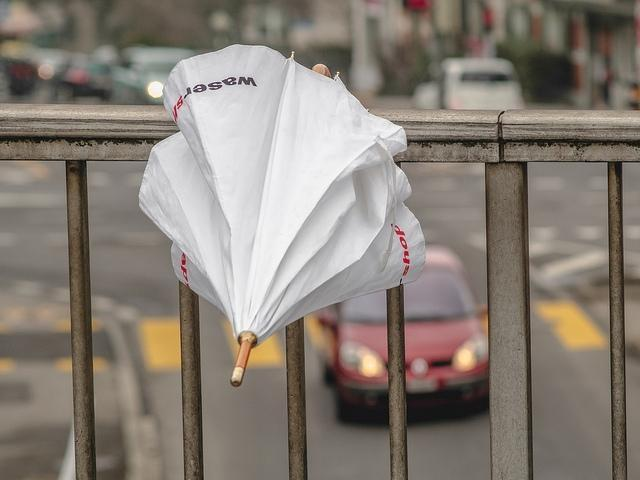car: (304, 242, 490, 426), (409, 58, 525, 110), (108, 45, 200, 105)
